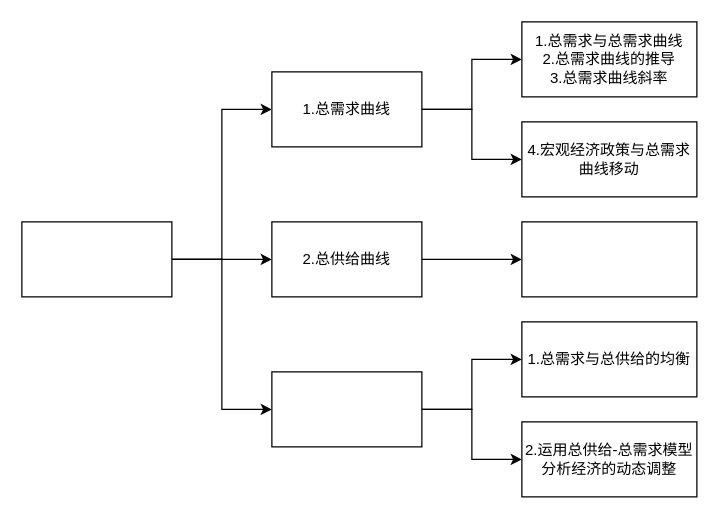
The diagram is 719 pixels wide and 519 high, and some of its shapes have lost their labels. The centre of each missing label's shape, as x and y in pixels:
1.总供给与总供给曲线 2.AS曲线的推导 3.不同性质的总供给曲线 4.总供给曲线的斜率: (x=609, y=259)
3.总需求-总供给模型: (x=346, y=409)
总供给与总需求: (x=96, y=259)
